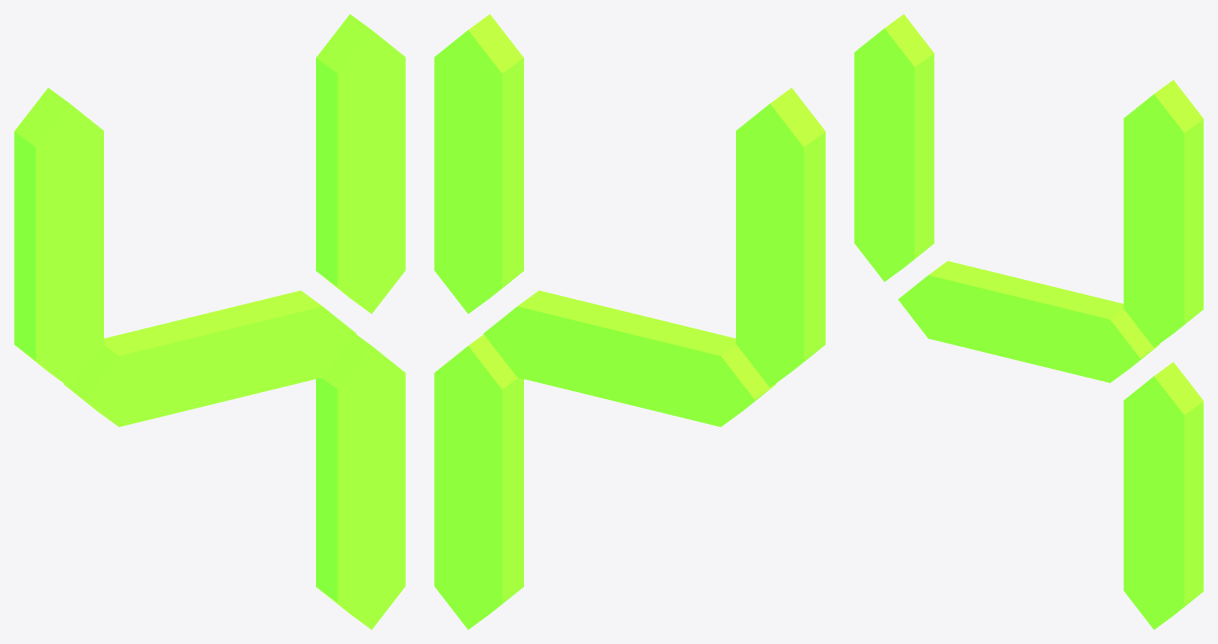
File: number4.glb
3 renders of one model, left to right at view 1: azimuth 30°, elevation 25°; view 2: azimuth 150°, elevation 25°; view 3: azimuth 330°, elevation 25°, orthographic. The views are drawn at different scales.
Visible parts, largest first — view 1: Cube.005; view 2: Cube.005; view 3: Cube.005.
Boxes of the visible parts, x1,y1,x2,y2 form: Cube.005: (14,14,405,629); Cube.005: (434,14,825,629); Cube.005: (854,14,1203,629).
Bounding box in the file's own units: 9.8 × 15.2 × 1.
